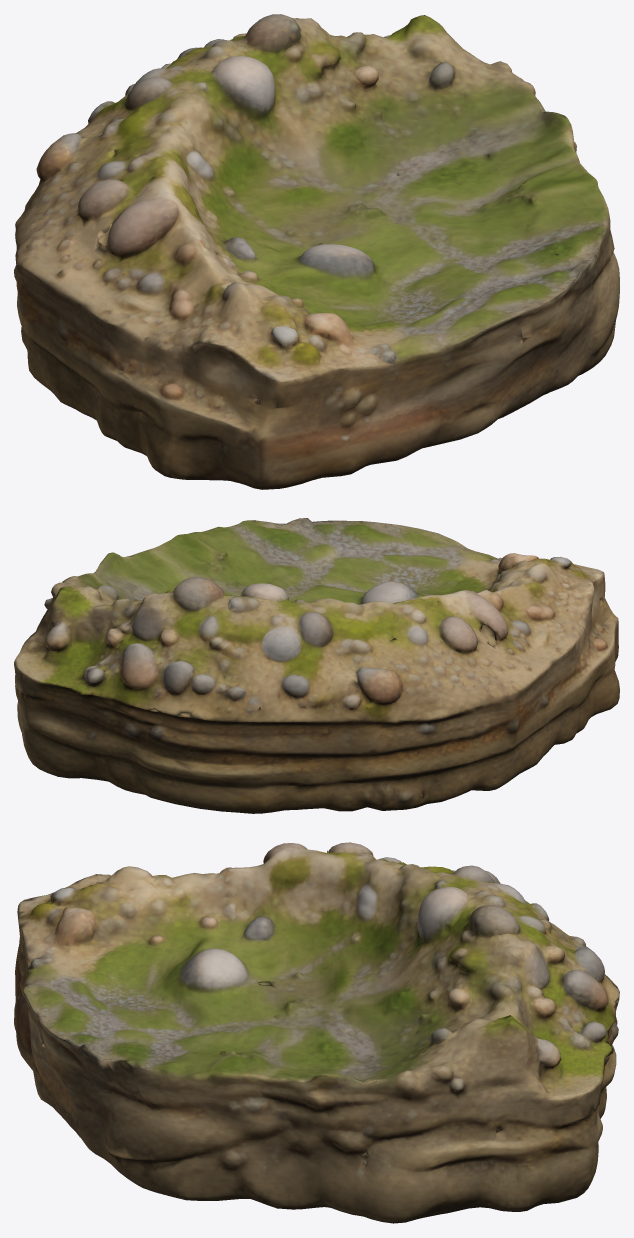
The picture shows the model from 3 angles, top to bottom: view 1: azimuth 30°, elevation 25°; view 2: azimuth 150°, elevation 25°; view 3: azimuth 270°, elevation 25°; orthographic projection. The views are drawn at different scales.
Visible parts, largest first — view 1: world; view 2: world; view 3: world.
Boxes of the visible parts, x1,y1,x2,y2 form: world: (14,14,619,489); world: (14,518,619,813); world: (14,842,619,1223).
Size of the model in its own units: 29.26 by 12.28 by 30.
Materials: 1 (1 with a texture image).
